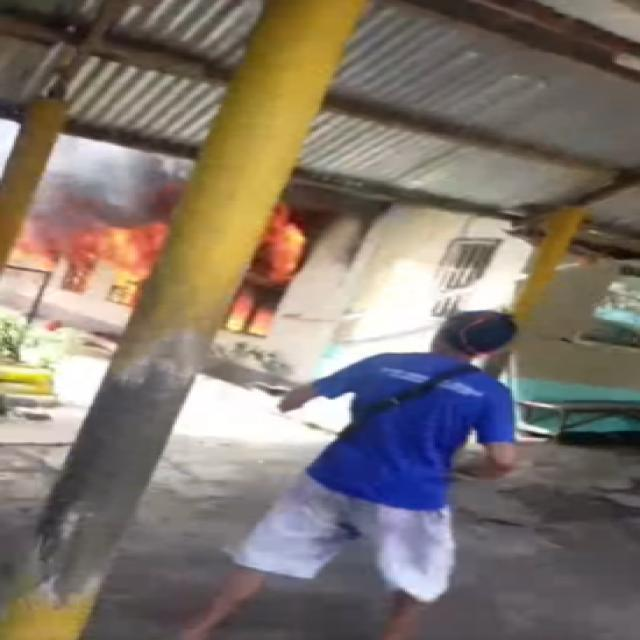Fire: (11, 209, 178, 302), (218, 198, 311, 338)
Smoke: (26, 138, 224, 232)
